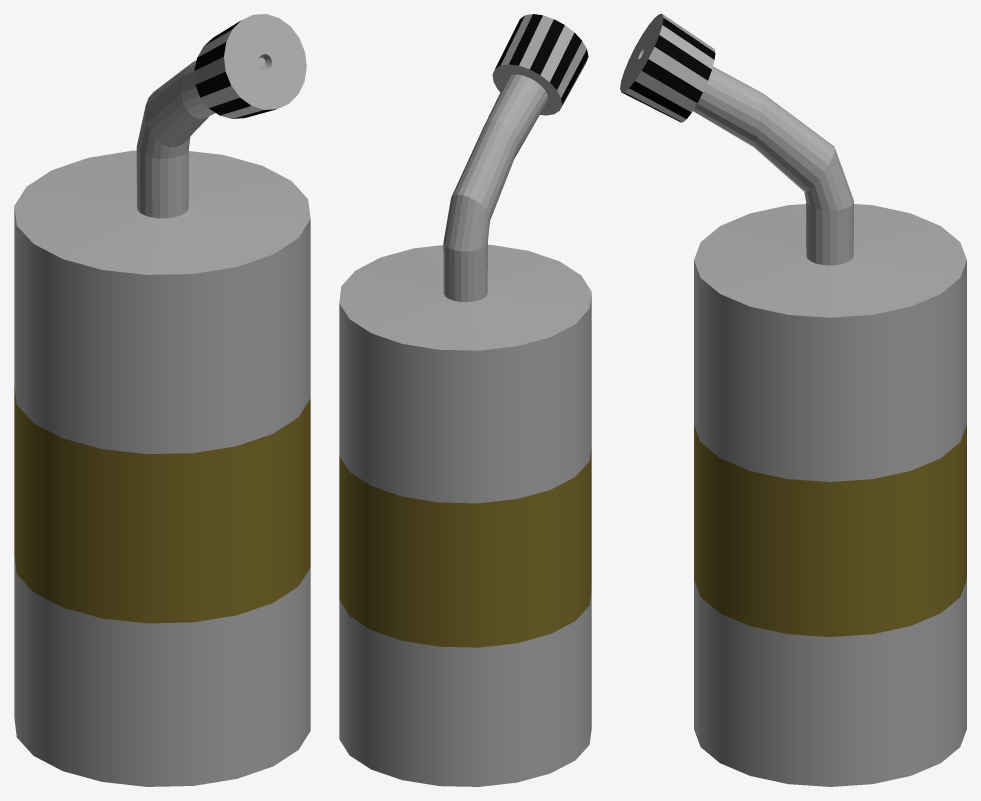
The model's file is Lighter.fbx.
3 renders of one model, left to right at view 1: azimuth 30°, elevation 25°; view 2: azimuth 150°, elevation 25°; view 3: azimuth 270°, elevation 25°, orthographic. The views are drawn at different scales.
Visible parts, largest first — view 1: Lighter; view 2: Lighter; view 3: Lighter.
Part boxes in pixels (x1,y1,x2,y2): Lighter: (14, 14, 310, 786); Lighter: (339, 14, 591, 786); Lighter: (620, 14, 966, 786).
Bounding box in the file's own units: 1.4 × 4.01 × 1.77.
